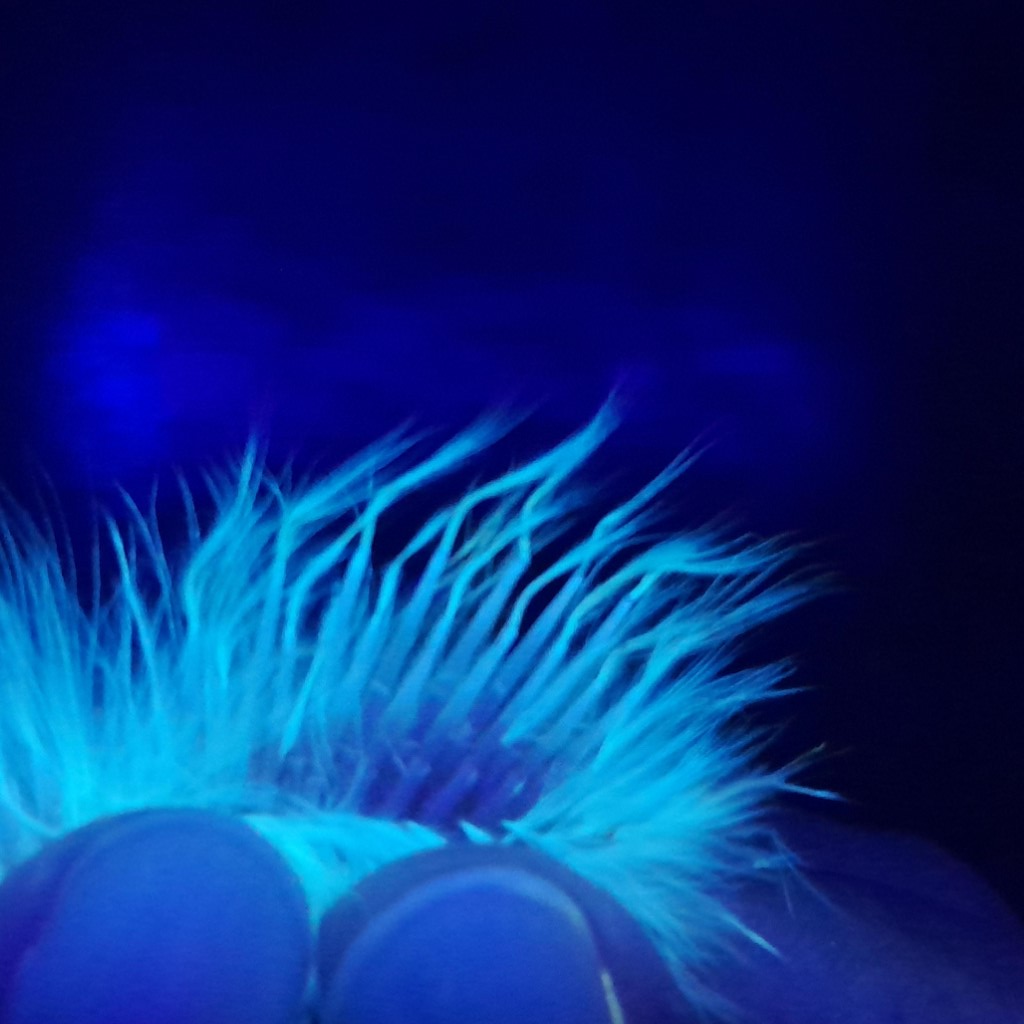female: (300, 498, 655, 841)
